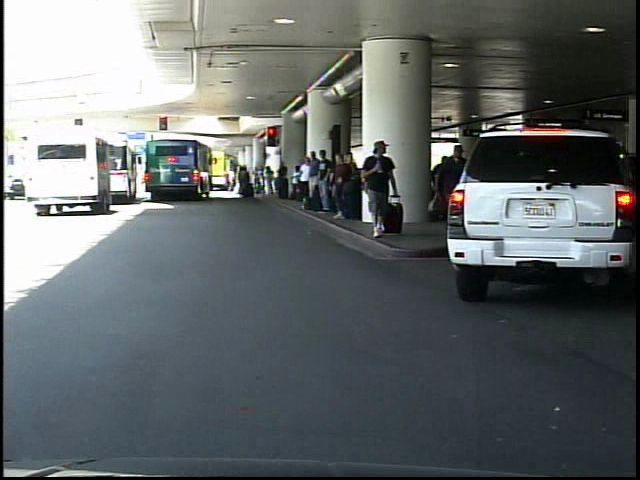person: (365, 137, 404, 242)
